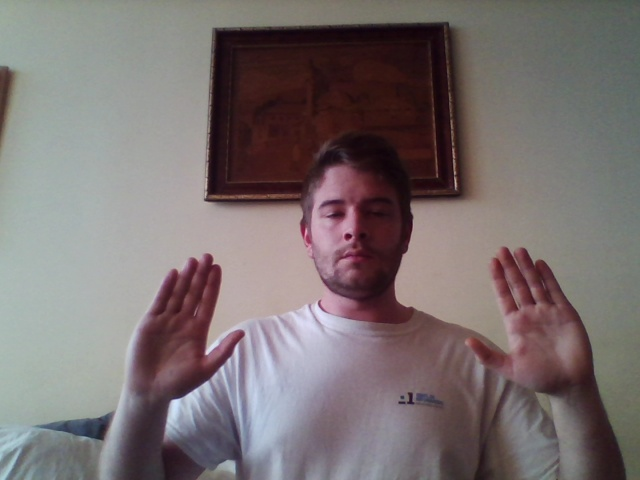prekrasno: (115, 245, 601, 399)
